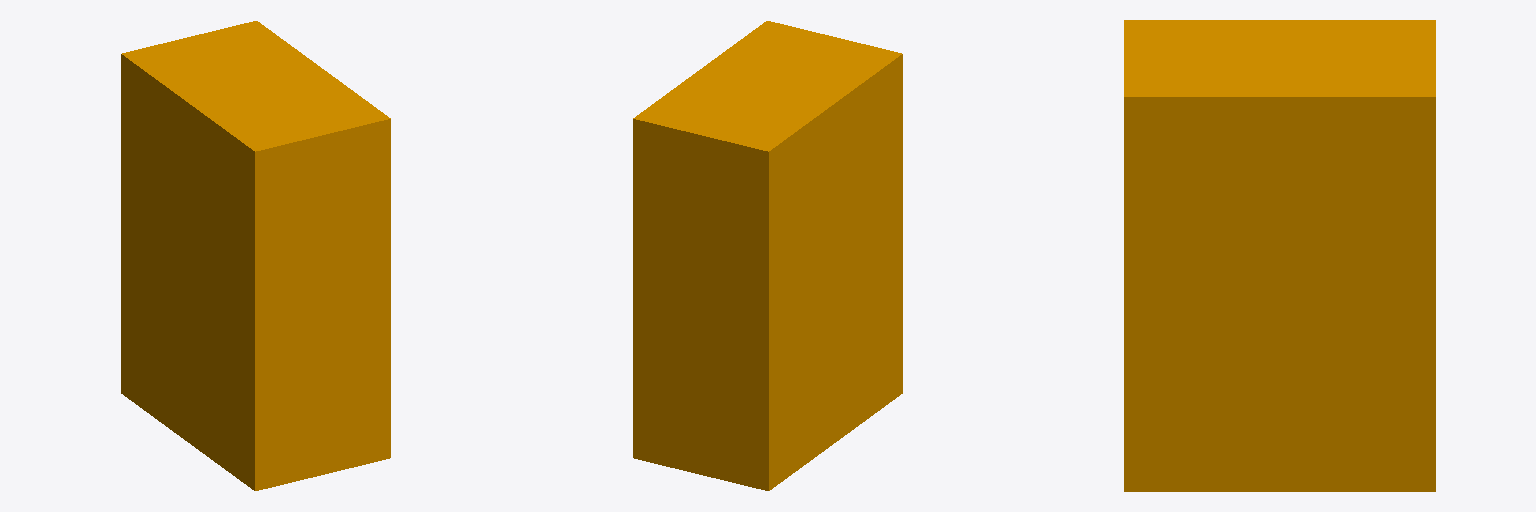
URDF robot description (box_0):
<robot name="box_0">
        <link name="base">
            <inertial>
                <mass value="0.2"/>
                <inertia ixx="0.0001" ixy="0" ixz="0" iyy="0.0001" iyz="0" izz="0.0001"/>
            </inertial>
            <visual>
                <geometry><mesh filename="box_0.obj" scale="1 1 1"/></geometry>
            </visual>
            <collision>
                <geometry><box size="0.026661114966781883 0.04558378450263206 0.06368324987828095"/></geometry>
            </collision>
        </link></robot>

--- What the picture shows (computed from the rendered views, not written in the file) ---
3 views of the same robot in one strip: view 1: azimuth 30°, elevation 25°; view 2: azimuth 150°, elevation 25°; view 3: azimuth 270°, elevation 25° (orthographic).
Robot: box_0 — 1 links, 0 joints (none); root link base; default pose: every joint at zero.
Visible links, largest first — view 1: base; view 2: base; view 3: base.
Boxes of the visible links, x1=… form: base: x1=121, y1=21, x2=390, y2=490; base: x1=633, y1=21, x2=902, y2=490; base: x1=1124, y1=20, x2=1435, y2=491.
Size in the robot's own frame: 0.0267 by 0.0456 by 0.0637 metres.
1 mesh visuals loaded from 1 distinct referenced files (1 OBJ).
